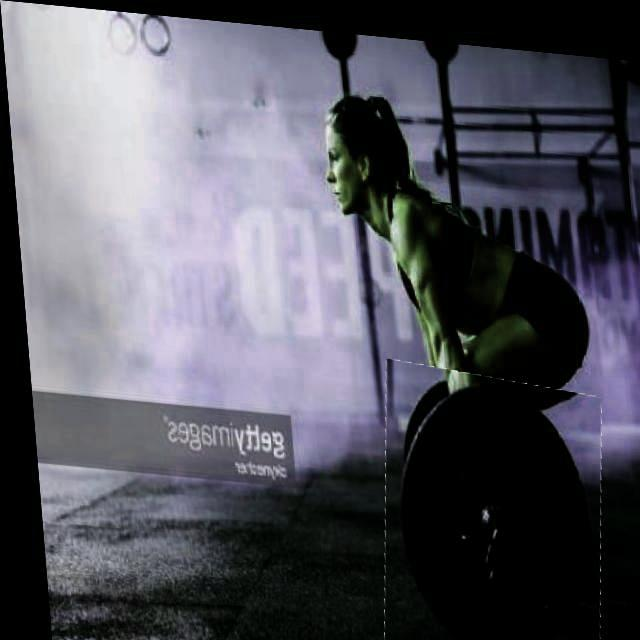barbell: (362, 355, 607, 640)
